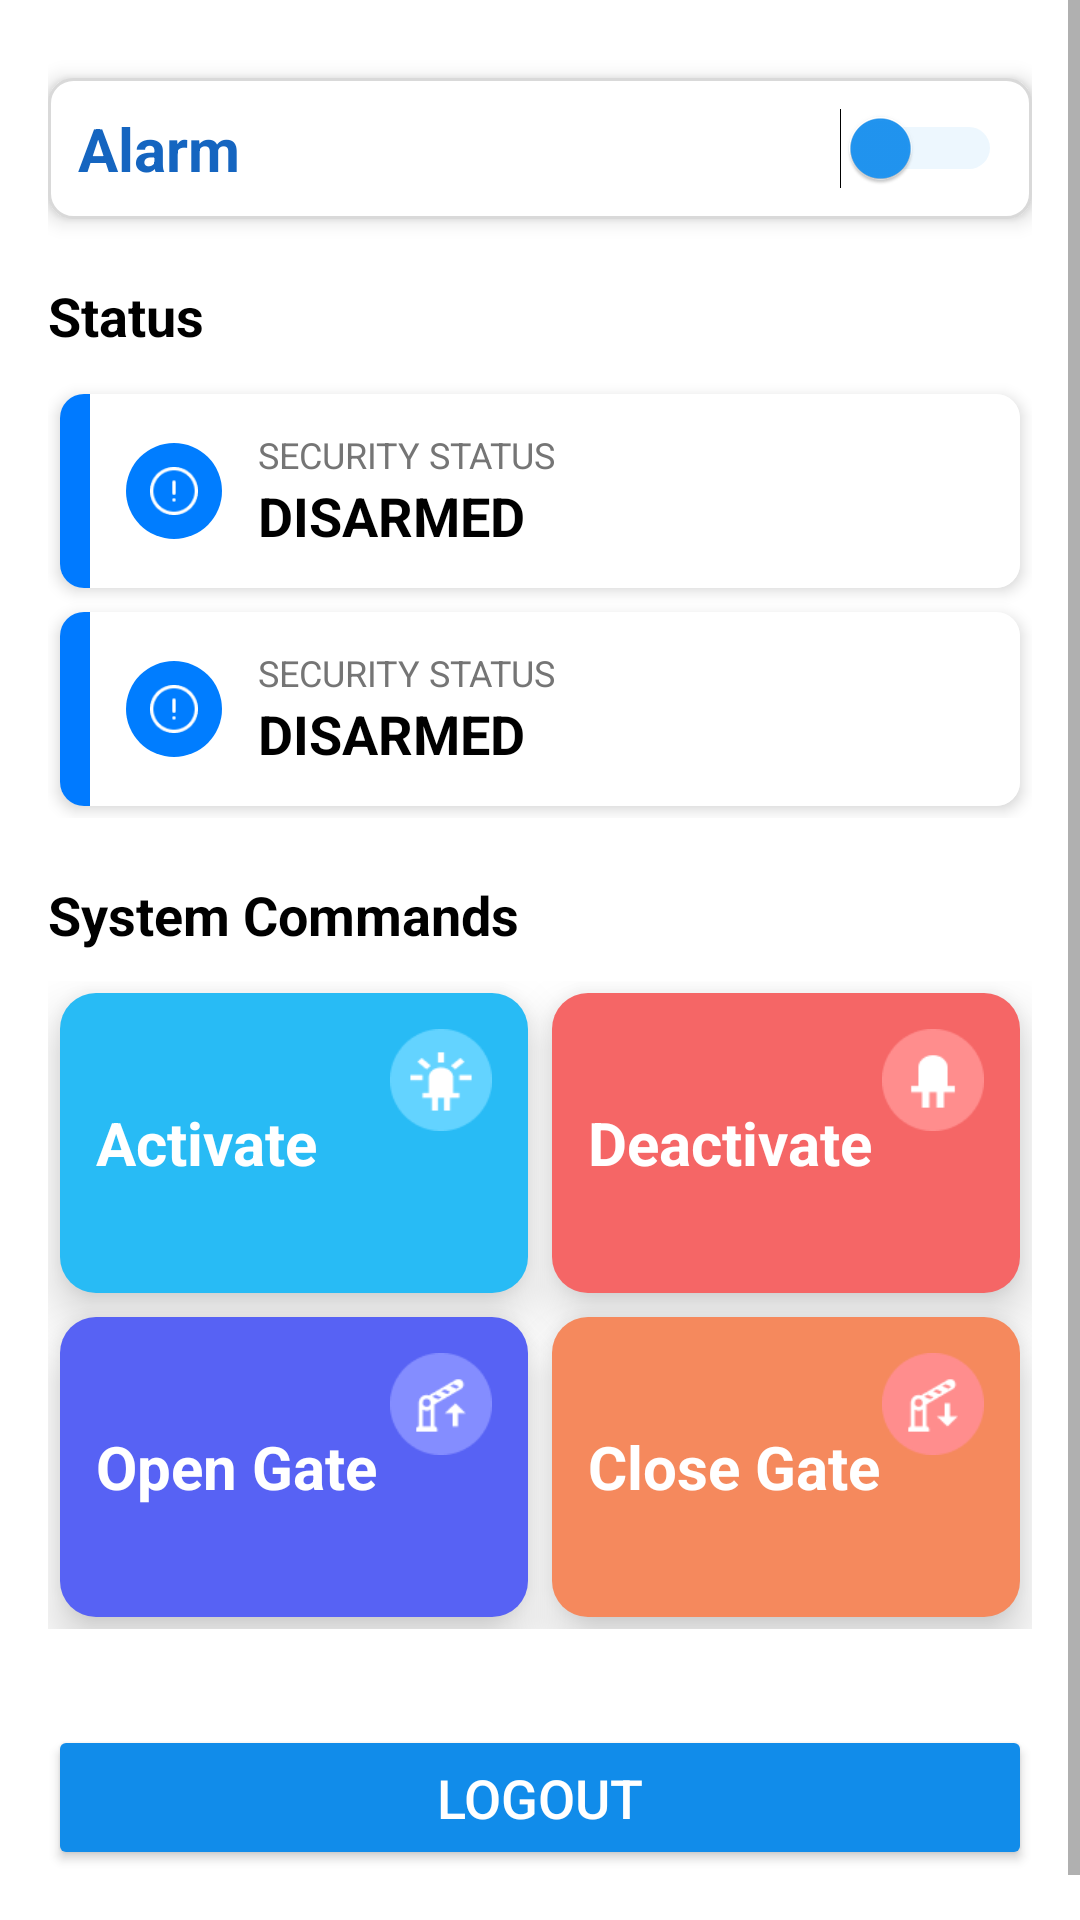

Screen size 1080px×1920px. Icon name, then its box in pixels as {"left": x1, "top": y1, "right": x2, "bottom": y2}:
arrow down: {"left": 882, "top": 1353, "right": 984, "bottom": 1455}
arrow up: {"left": 390, "top": 1353, "right": 492, "bottom": 1455}
